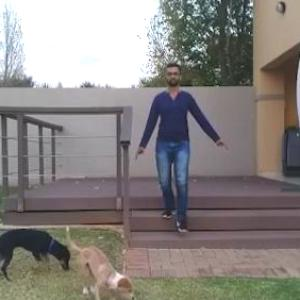land: (135, 69, 218, 225)
